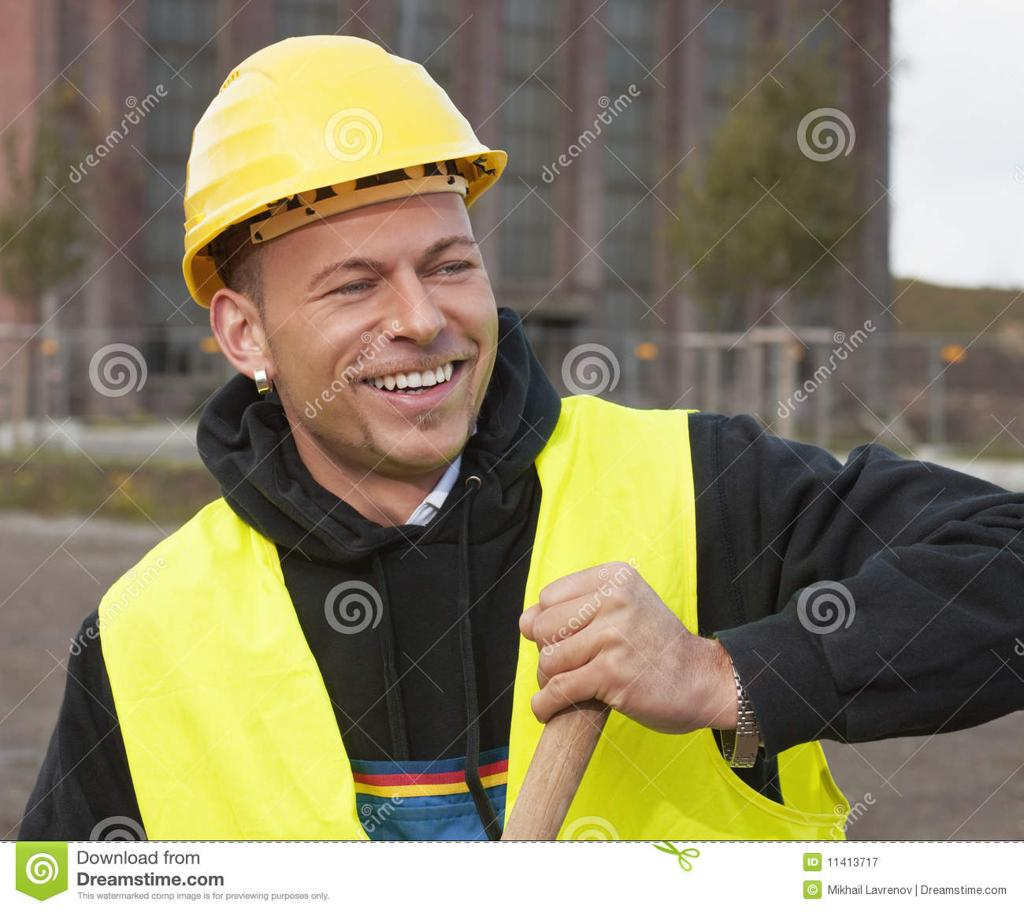face: (286, 168, 490, 452)
